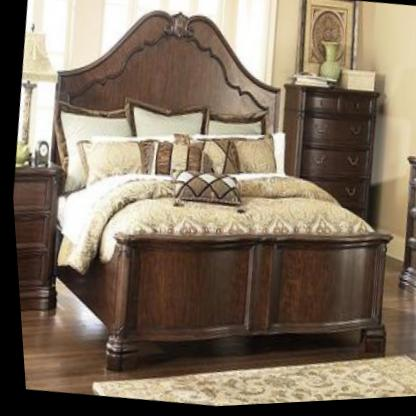Bed: (12, 0, 416, 414)
